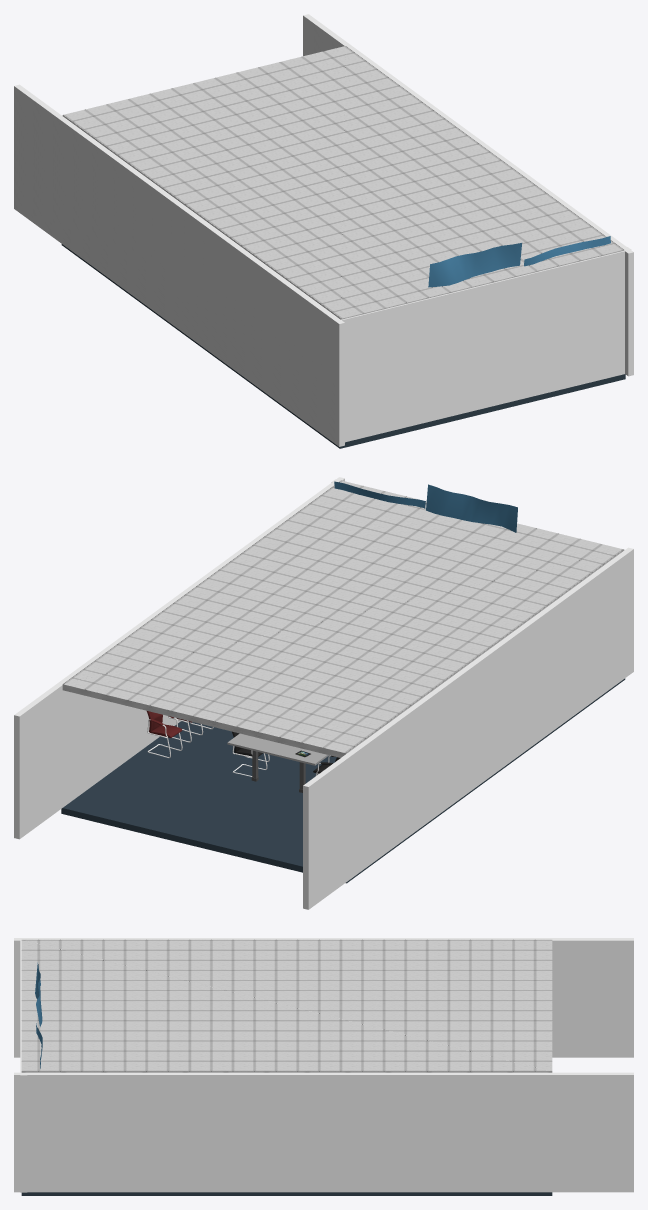
The model's file is conf_room.glb.
3 renders of one model, top to bottom at view 1: azimuth 30°, elevation 25°; view 2: azimuth 150°, elevation 25°; view 3: azimuth 270°, elevation 25°, orthographic. The views are drawn at different scales.
Parts seen in each view (by area): view 1: Room, Curtain; view 2: Room, Curtain, Table, Chair.020; view 3: Room, Curtain.
Boxes of the visible parts, box(x1,y1,x2,y2) form: Room: box(14, 14, 633, 448); Curtain: box(428, 236, 610, 287); Room: box(14, 477, 633, 909); Curtain: box(334, 481, 517, 532); Table: box(227, 733, 328, 792); Chair.020: box(146, 711, 182, 757); Room: box(14, 938, 633, 1195); Curtain: box(35, 962, 42, 1068).
Bounding box in the file's own units: 6.19 × 3.09 × 11.81.
Materials: 38 (11 with a texture image).
